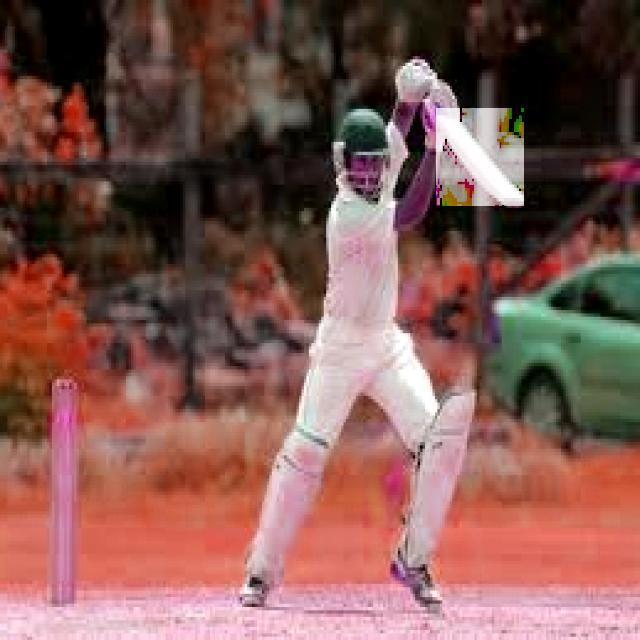bat: (435, 108, 526, 207)
toe: (495, 186, 533, 213)
